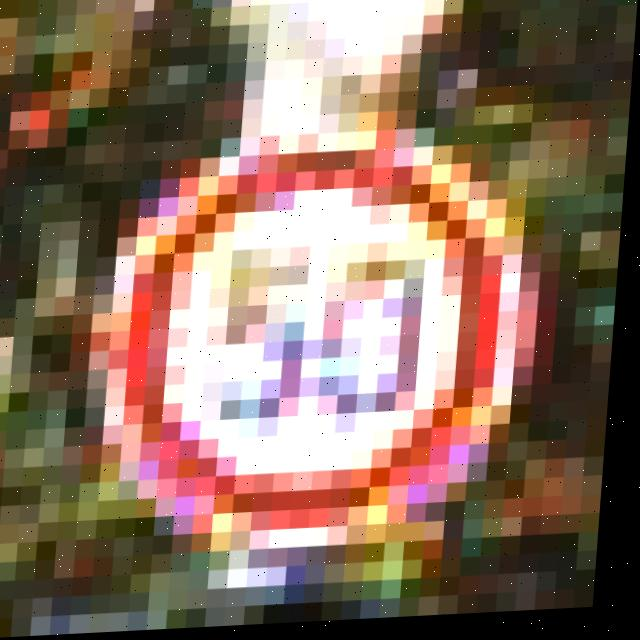speed_limit_50: (116, 132, 569, 558)
